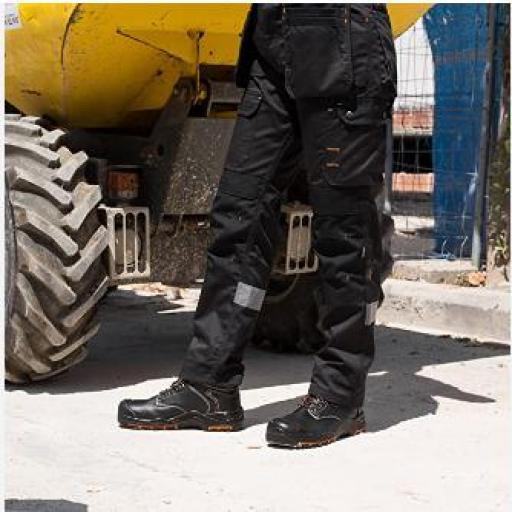safety_boots: (108, 374, 254, 446), (260, 386, 381, 452)
